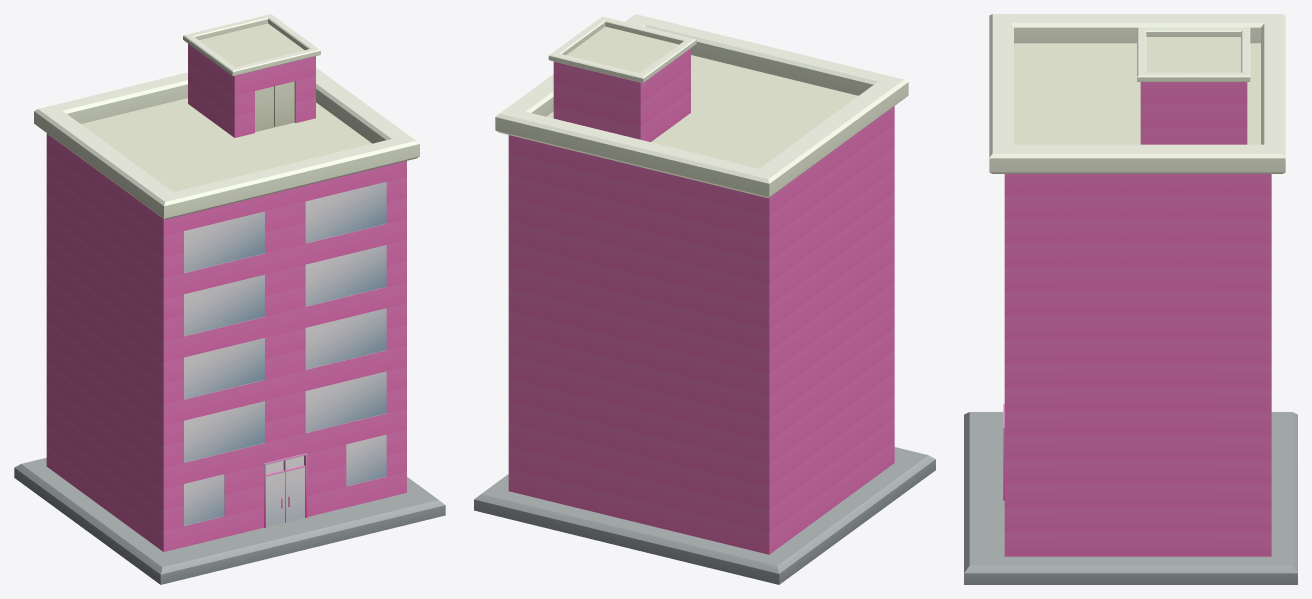
Rendered from Bulding.fbx.
3 views of the same model, side by side, from view 1: azimuth 30°, elevation 25°; view 2: azimuth 150°, elevation 25°; view 3: azimuth 270°, elevation 25° (orthographic). The views are drawn at different scales.
Parts seen in each view (by area): view 1: BB_297, BuildingBase, BB_315, BB_132, BB_187, BB_242, BB_296, BB_131, BB_186, BB_241, BB_295, BB_76 (+64 smaller); view 2: BB_297, BuildingBase, BB_315, BB_69, BB_105, BB_199, BB_32, BB_235, BB_270, BB_15, BB_125, BB_144 (+155 smaller); view 3: BB_297, BuildingBase, BB_315, BB_6, BB_9, BB_23, BB_26, BB_39, BB_40, BB_41, BB_42, BB_43 (+77 smaller).
Boxes of the visible parts, x1,y1,x2,y2 form: BB_297: [34, 67, 419, 219]; BuildingBase: [14, 457, 445, 584]; BB_315: [183, 14, 320, 76]; BB_132: [305, 371, 386, 432]; BB_187: [305, 308, 386, 369]; BB_242: [305, 245, 386, 306]; BB_296: [305, 181, 386, 243]; BB_131: [184, 401, 264, 462]; BB_186: [184, 338, 264, 399]; BB_241: [184, 274, 264, 336]; BB_295: [184, 211, 264, 272]; BB_76: [264, 453, 307, 527]; BB_297: [495, 14, 908, 198]; BuildingBase: [474, 447, 935, 584]; BB_315: [548, 16, 696, 82]; BB_69: [747, 446, 794, 486]; BB_105: [747, 401, 794, 441]; BB_199: [747, 288, 794, 328]; BB_32: [747, 491, 794, 531]; BB_235: [747, 243, 794, 283]; BB_270: [747, 198, 794, 238]; BB_15: [747, 514, 794, 554]; BB_125: [747, 379, 794, 419]; BB_144: [747, 356, 794, 396]; BB_297: [989, 14, 1285, 173]; BuildingBase: [964, 412, 1297, 584]; BB_315: [1137, 27, 1250, 81]; BB_6: [1058, 532, 1111, 556]; BB_9: [1218, 532, 1271, 556]; BB_23: [1058, 508, 1111, 532]; BB_26: [1218, 508, 1271, 532]; BB_39: [1004, 484, 1057, 508]; BB_40: [1058, 484, 1111, 508]; BB_41: [1111, 484, 1164, 508]; BB_42: [1165, 484, 1218, 508]; BB_43: [1218, 484, 1271, 508].
Size of the model in its own units: 399 by 565 by 355.
